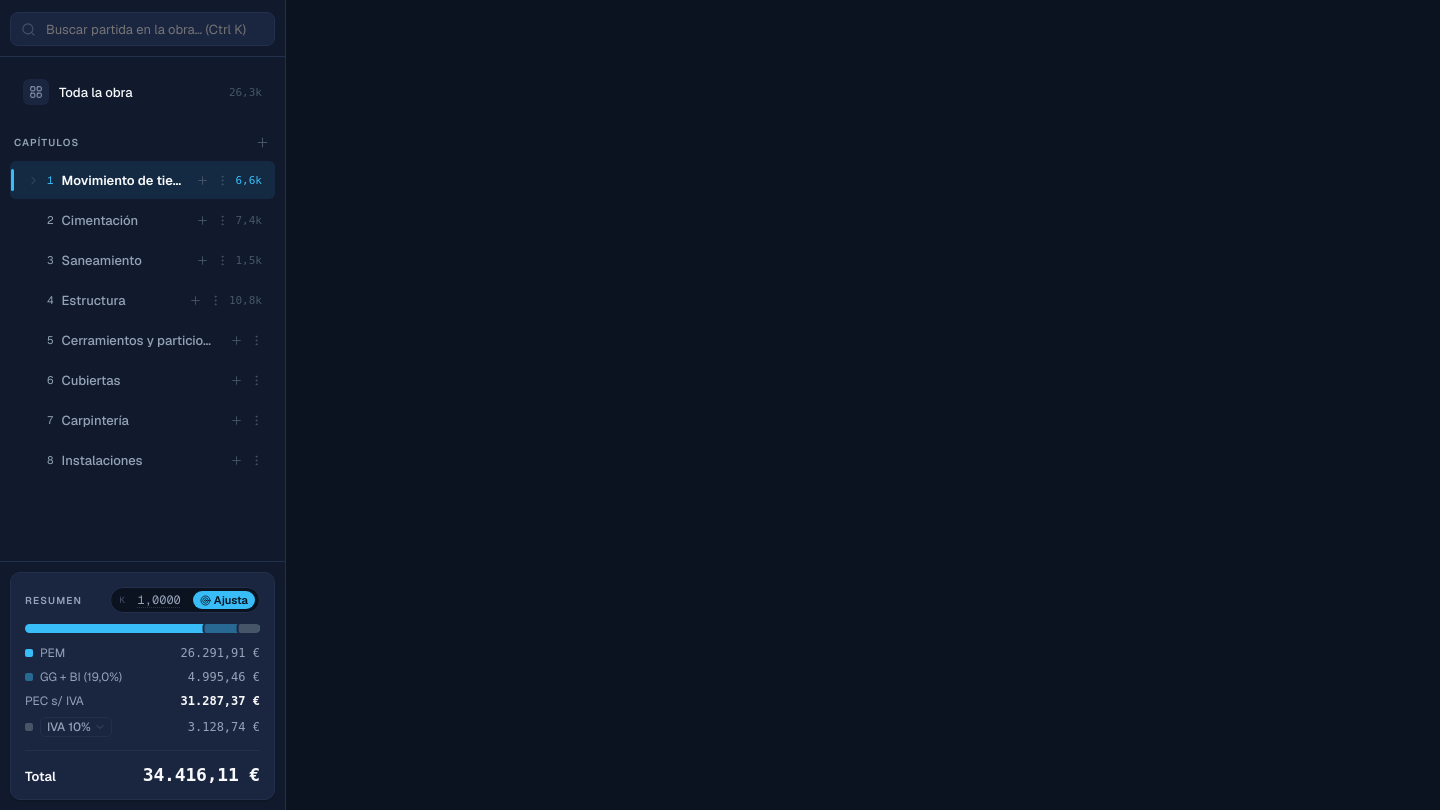
Test: Sidebar — coeficiente K (Fase B) › no aplica un objetivo no numérico (botón deshabilitado)
This screenshot has width=1440, height=810.
Click the button "Ajusta" at (224, 600), box [193,591,255,609]
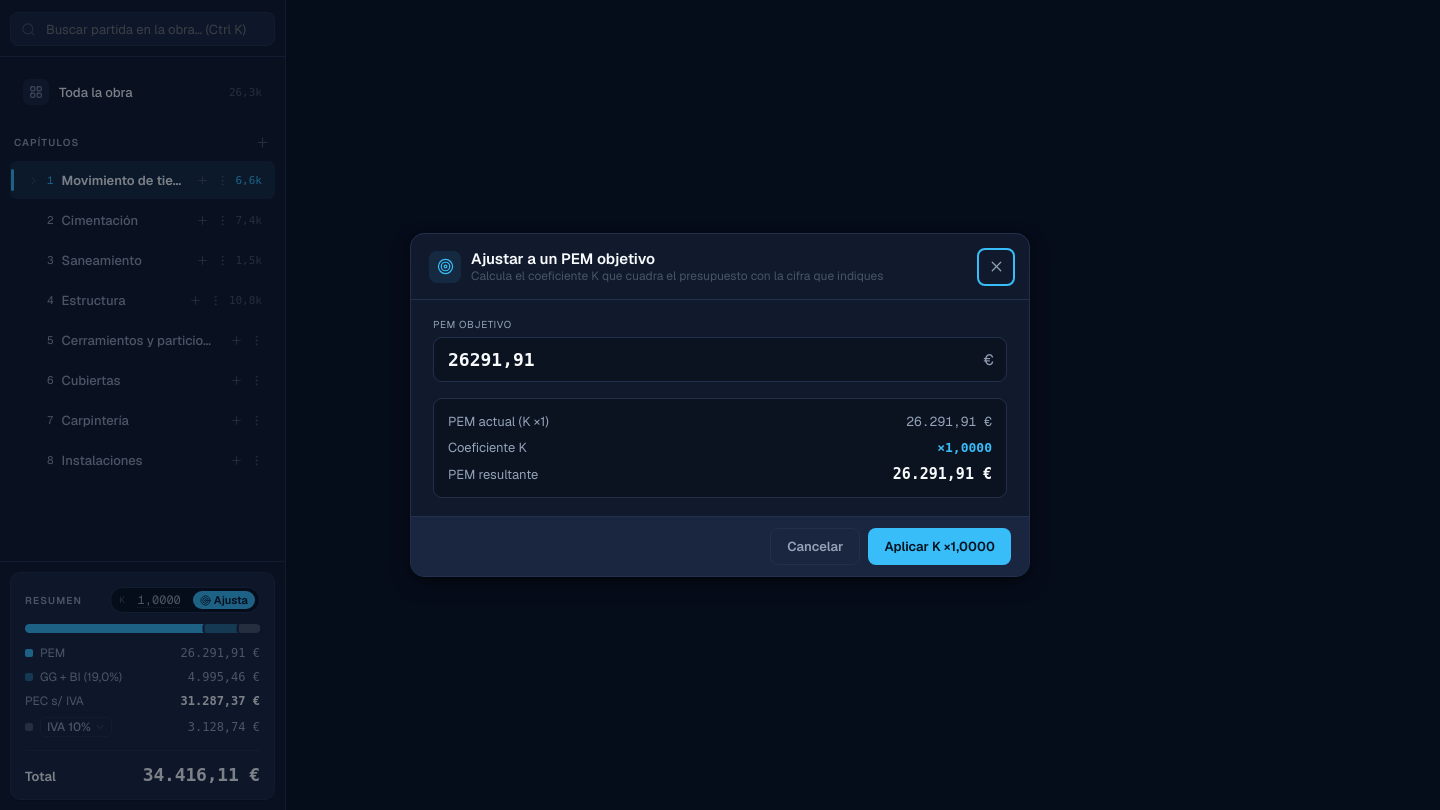
Replace the text in the field named "PEM objetivo en euros" with "abc" at (711, 360), box [446,348,975,371]
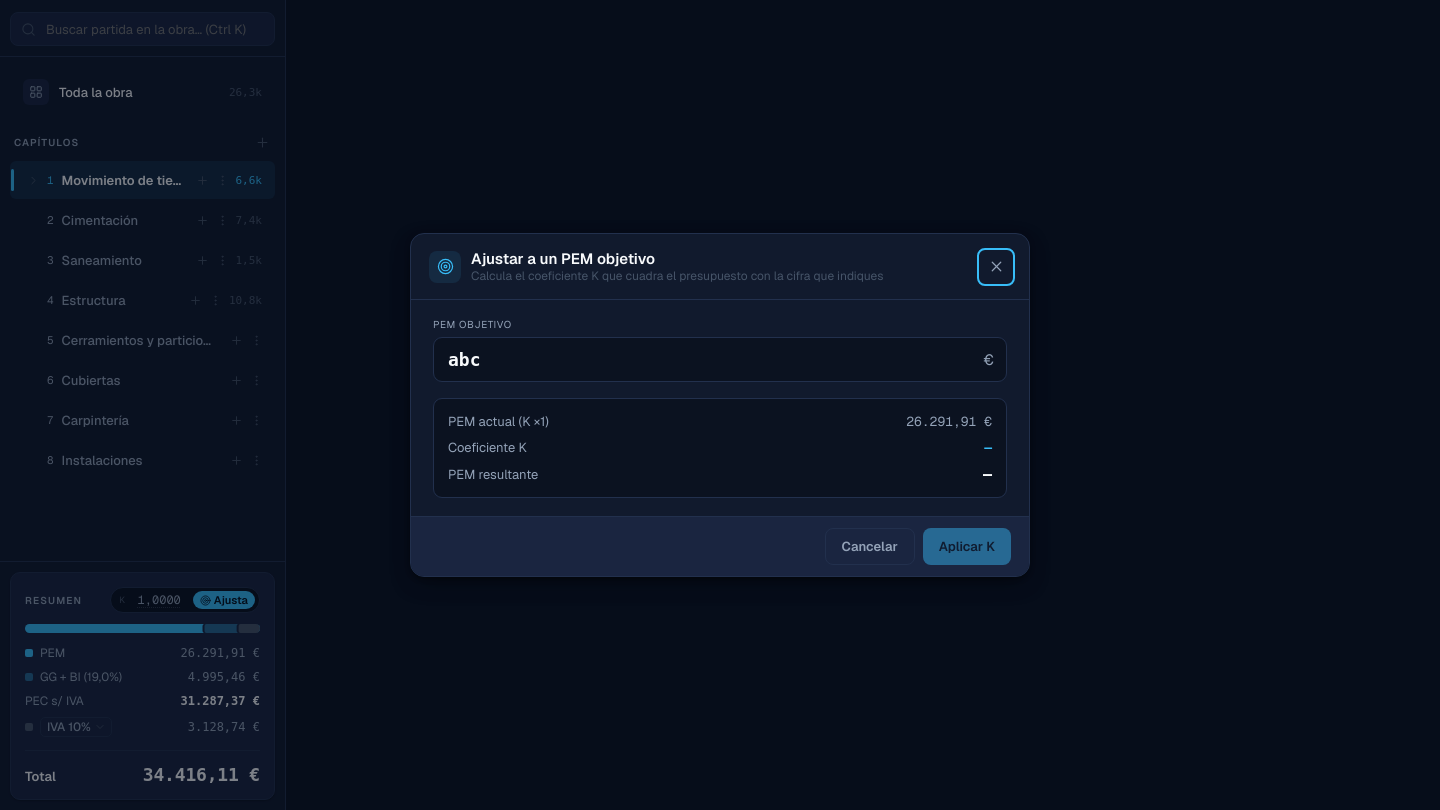
Now the button "Aplicar K" is disabled, box [923,528,1011,565]
